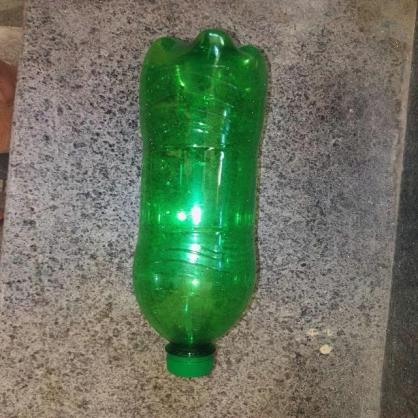bottle: (126, 27, 287, 386)
cap: (161, 344, 223, 380)
